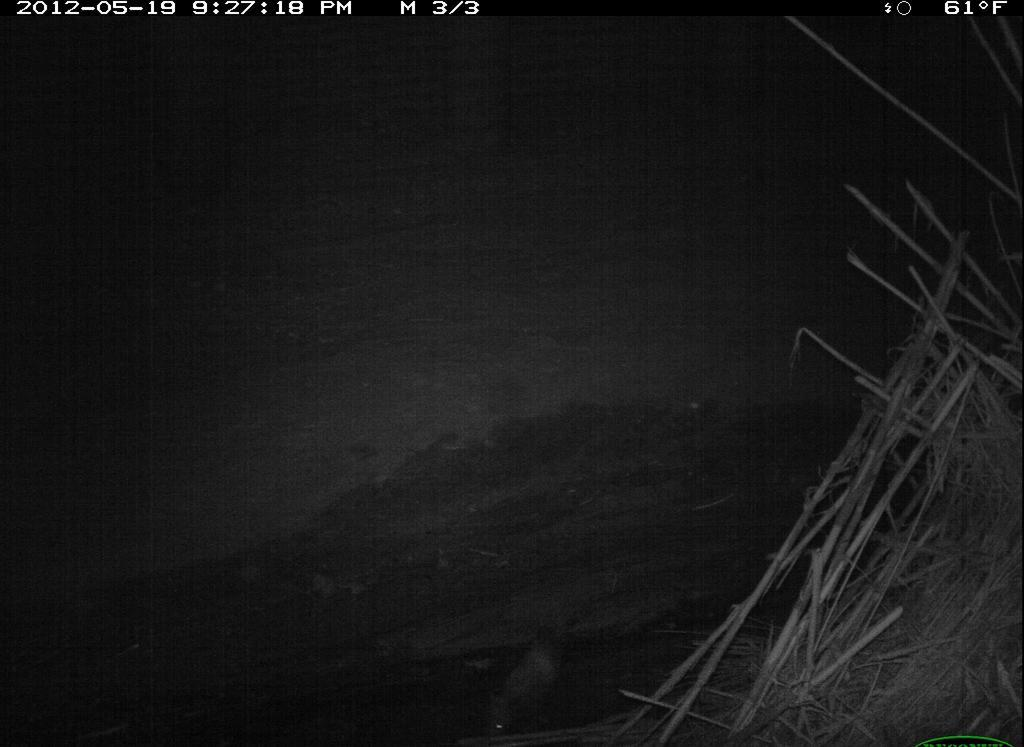opossum: (457, 601, 587, 747)
